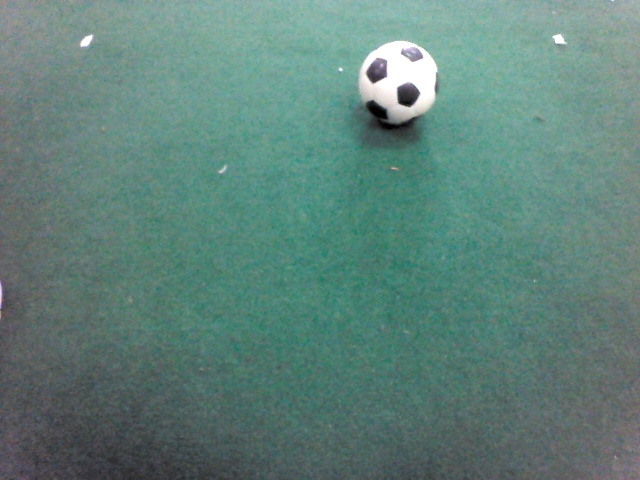ball: (357, 39, 440, 127)
